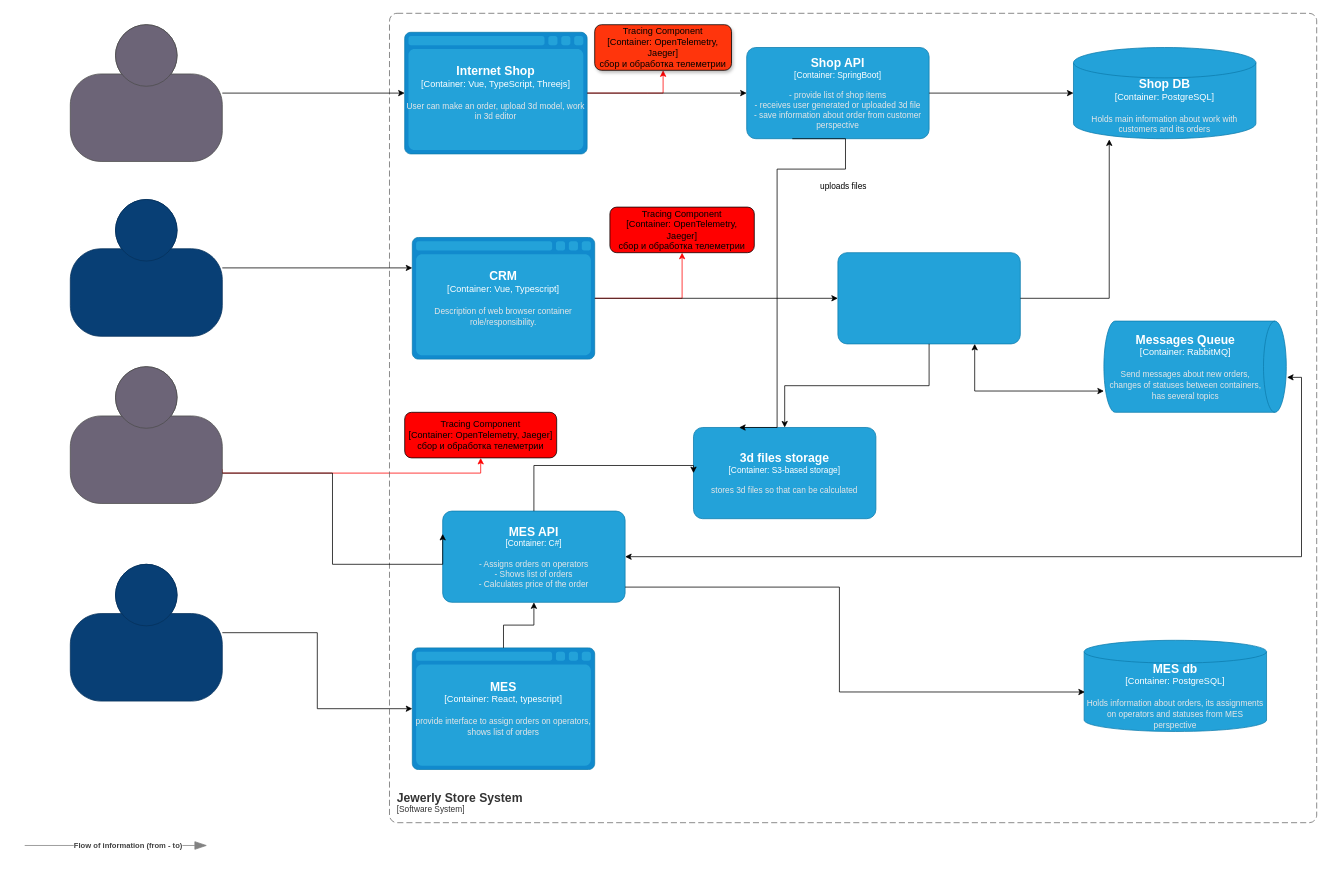
The diagram is 1330 pixels wide and 871 high, and some of its shapes have lost their labels. Each missing label, with the centre of its shape:
"API user [Person] Description of external person." goes at point (146, 435).
"CRM API [Container: SpringBoot] Description of container role/responsibility." goes at point (928, 298).
"Customer [Person] Description of external person." goes at point (146, 93).
"Operator [Person] Takes order in work, manufactures jewerly" goes at point (146, 632).
"Seller [Person] Operates with order, confirms manufacturing for the user" goes at point (146, 267).
